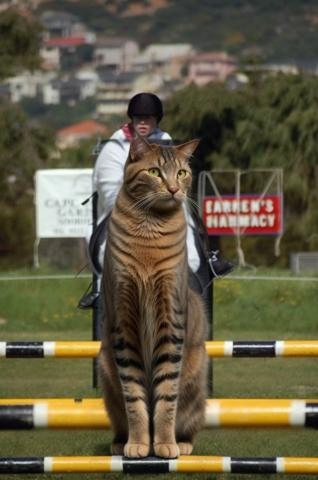cat: (92, 139, 213, 459)
person: (77, 93, 237, 313)
